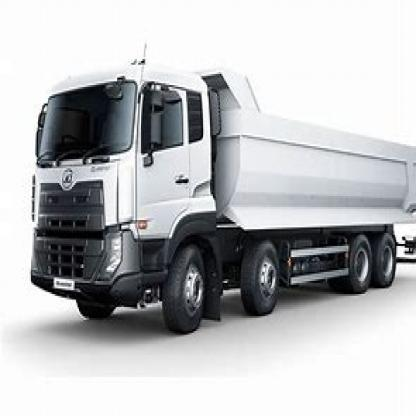dump_truck: (21, 46, 415, 337)
